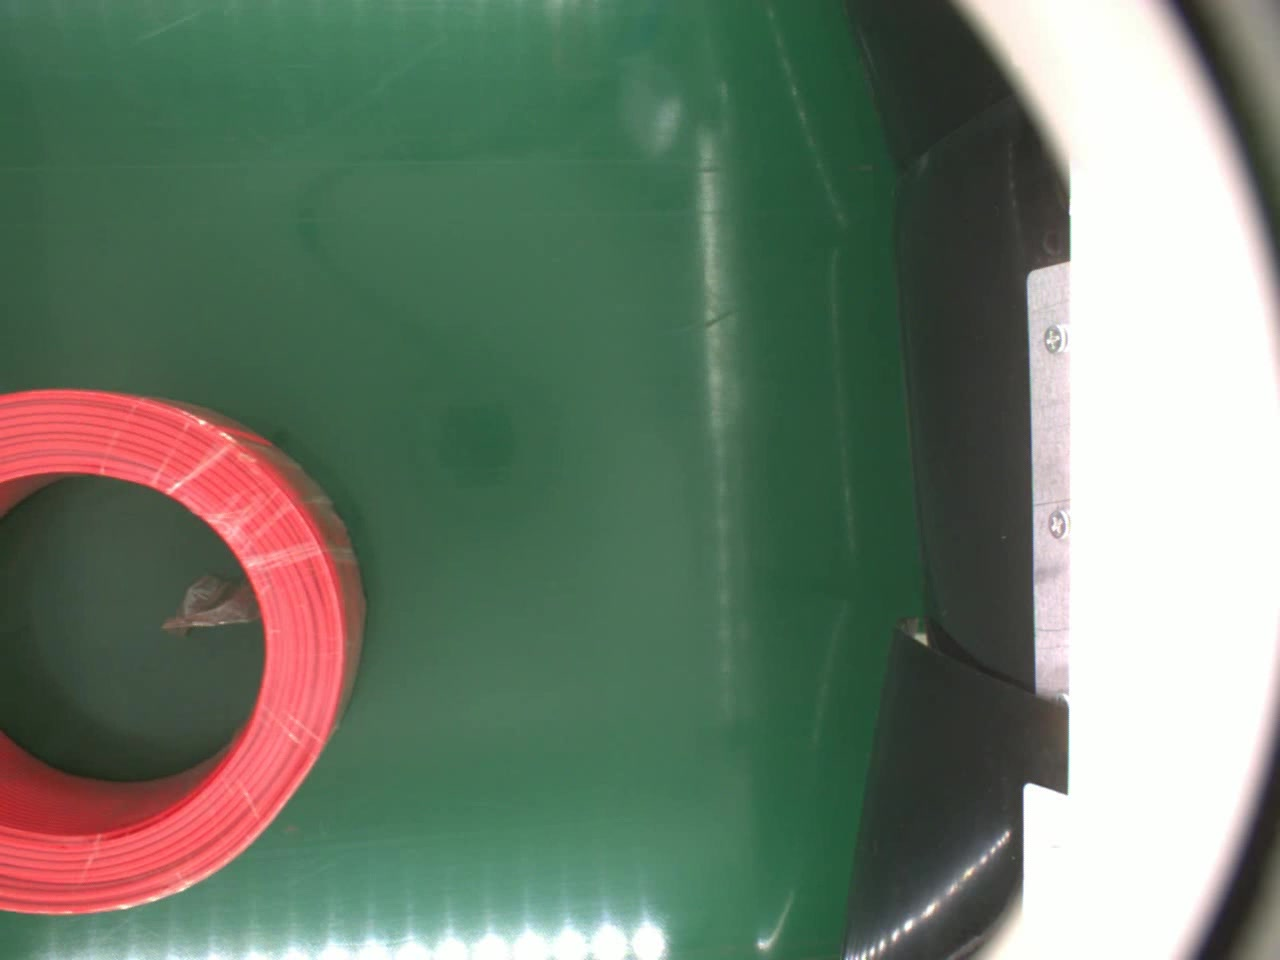red: (0, 383, 370, 920)
